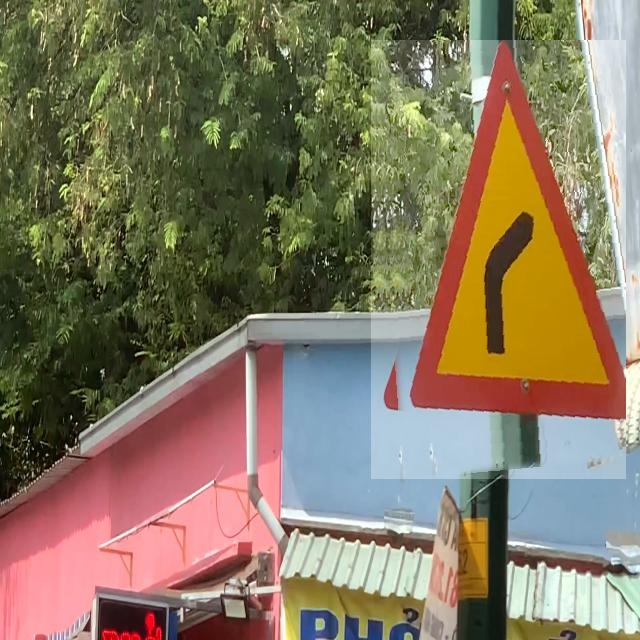bien_nguy_hiem: (371, 40, 626, 479)
